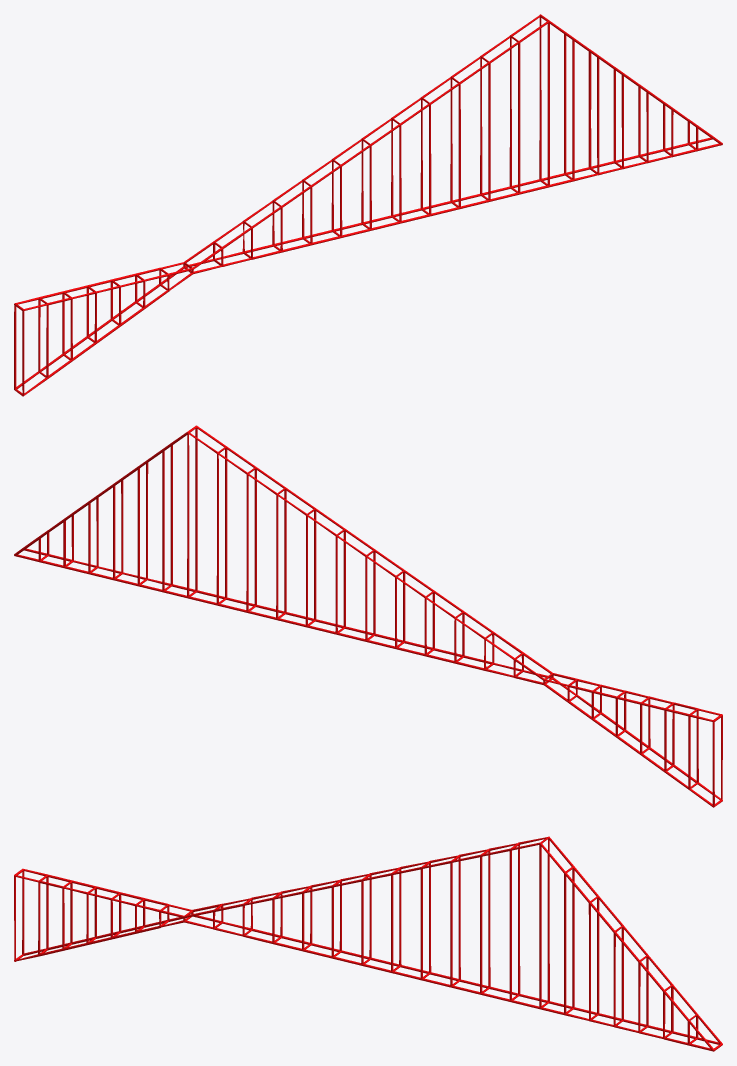
File: bmd3.fbx
3 views of the same model, one above another, from view 1: azimuth 30°, elevation 25°; view 2: azimuth 150°, elevation 25°; view 3: azimuth 330°, elevation 25° (orthographic).
Parts seen in each view (by area): view 1: Cube1; view 2: Cube1; view 3: Cube1.
Part boxes in pixels (x1,y1,x2,y2): Cube1: (14,14,722,396); Cube1: (14,425,722,807); Cube1: (14,836,722,1051).
Size of the model in its own units: 80.11 by 27.07 by 1.87.
